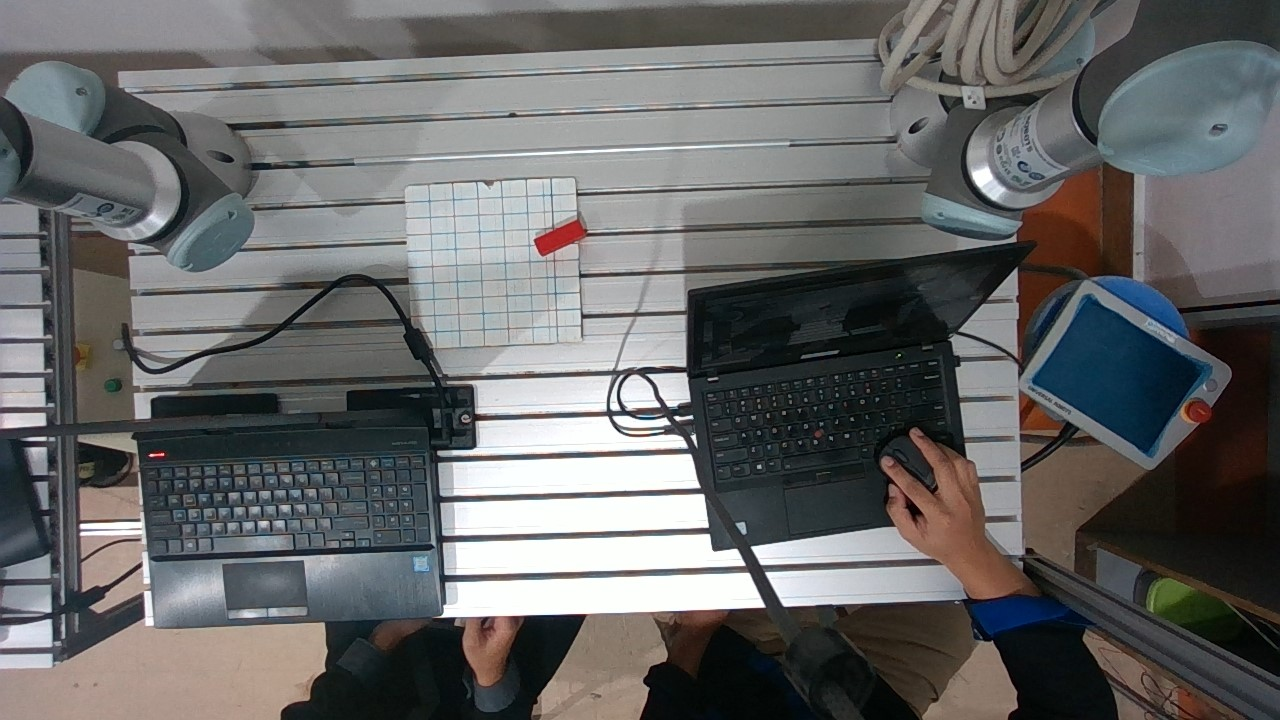box: (524, 216, 605, 256)
